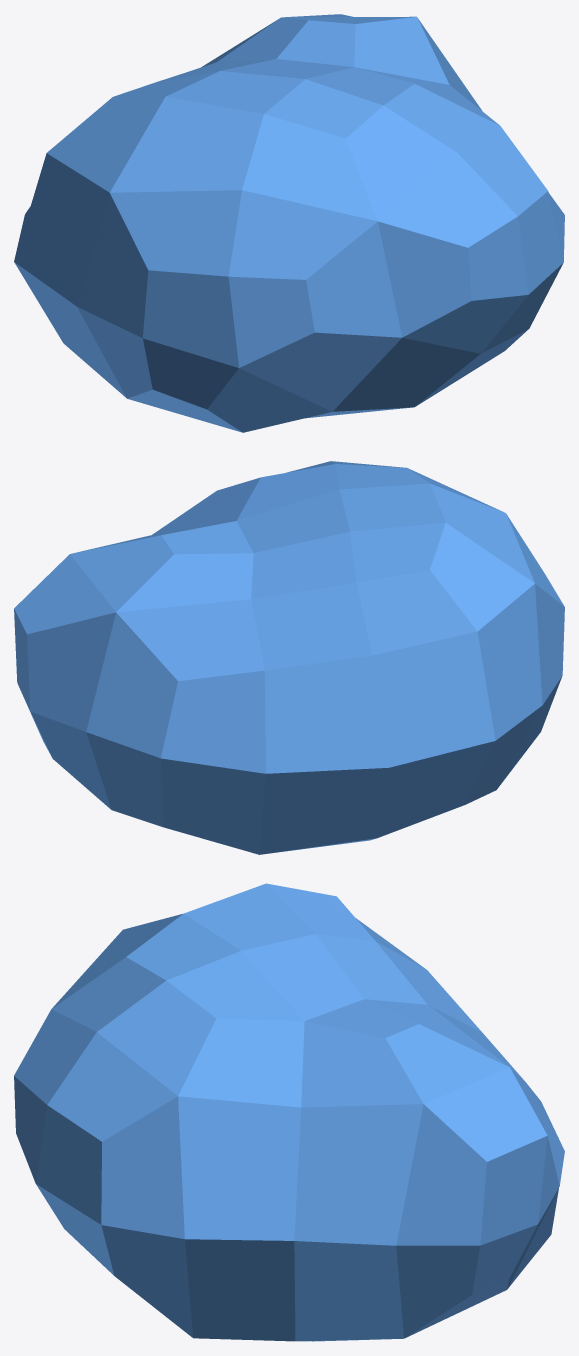
The model's file is Cloud2.fbx.
3 views of the same model, one above another, from view 1: azimuth 30°, elevation 25°; view 2: azimuth 150°, elevation 25°; view 3: azimuth 270°, elevation 25° (orthographic). The views are drawn at different scales.
Parts seen in each view (by area): view 1: Cloud2; view 2: Cloud2; view 3: Cloud2.
Boxes of the visible parts, x1=… form: Cloud2: x1=14, y1=14, x2=564, y2=432; Cloud2: x1=14, y1=461, x2=564, y2=854; Cloud2: x1=14, y1=883, x2=564, y2=1341.
Size of the model in its own units: 171 by 118 by 169.
